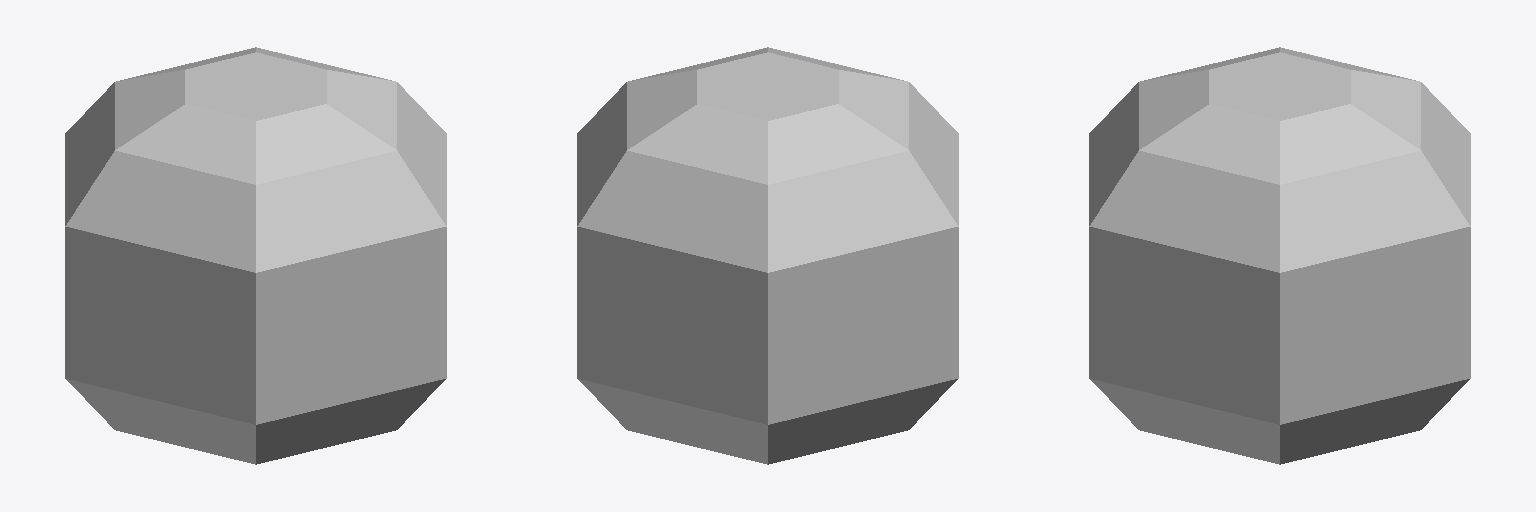
File: meteorFullRound.obj
3 renders of one model, left to right at view 1: azimuth 30°, elevation 25°; view 2: azimuth 150°, elevation 25°; view 3: azimuth 270°, elevation 25°, orthographic.
Visible parts, largest first — view 1: meteorFullRound; view 2: meteorFullRound; view 3: meteorFullRound.
Boxes of the visible parts, x1,y1,x2,y2 form: meteorFullRound: [65, 47, 446, 464]; meteorFullRound: [577, 47, 958, 464]; meteorFullRound: [1089, 47, 1470, 464].
Bounding box in the file's own units: 11.55 × 9.8 × 10.